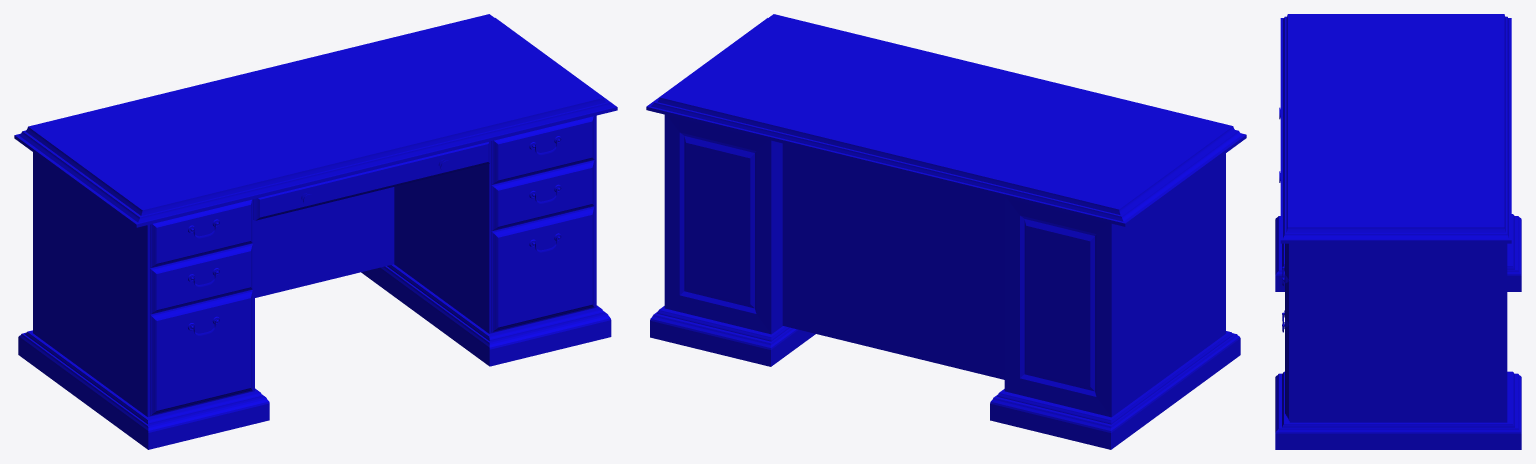
File: ExsecDesk.fbx
3 renders of one model, left to right at view 1: azimuth 30°, elevation 25°; view 2: azimuth 150°, elevation 25°; view 3: azimuth 270°, elevation 25°, orthographic. The views are drawn at different scales.
Visible parts, largest first — view 1: Desk; view 2: Desk; view 3: Desk.
Boxes of the visible parts, x1=… form: Desk: x1=14, y1=14, x2=617, y2=449; Desk: x1=646, y1=14, x2=1246, y2=449; Desk: x1=1275, y1=14, x2=1521, y2=449.
Size of the model in its own units: 1320 by 615 by 618.
